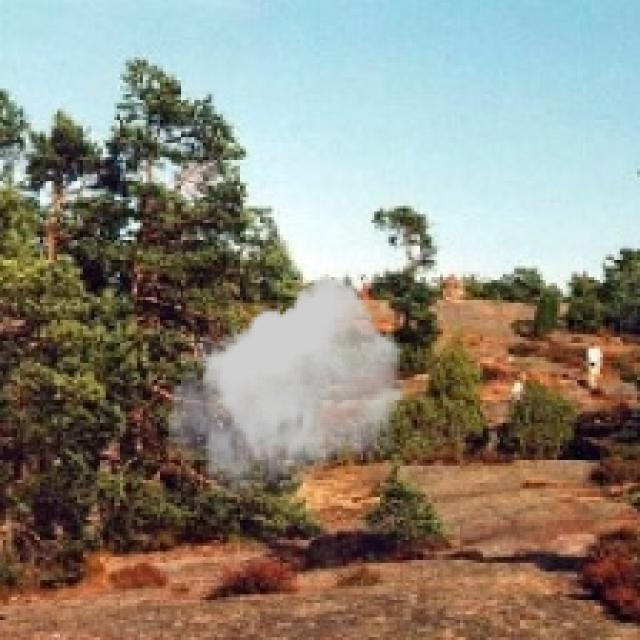Smoke: (168, 277, 406, 497)
